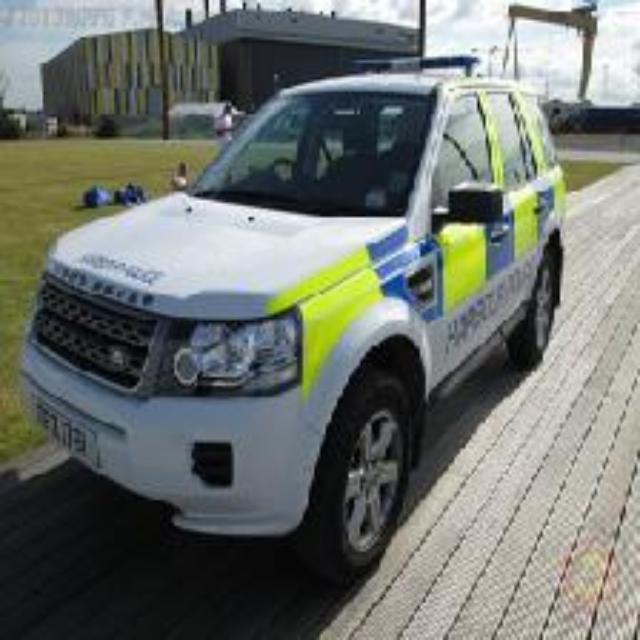emergency: (32, 70, 566, 512)
